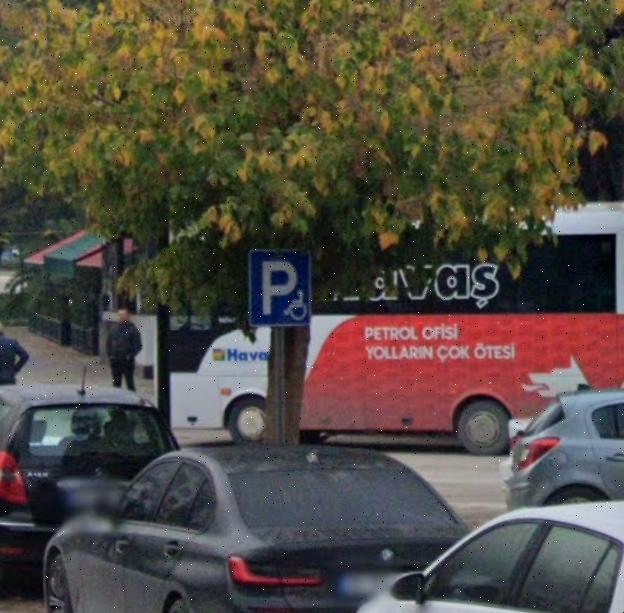disabledpark: (249, 251, 313, 324)
